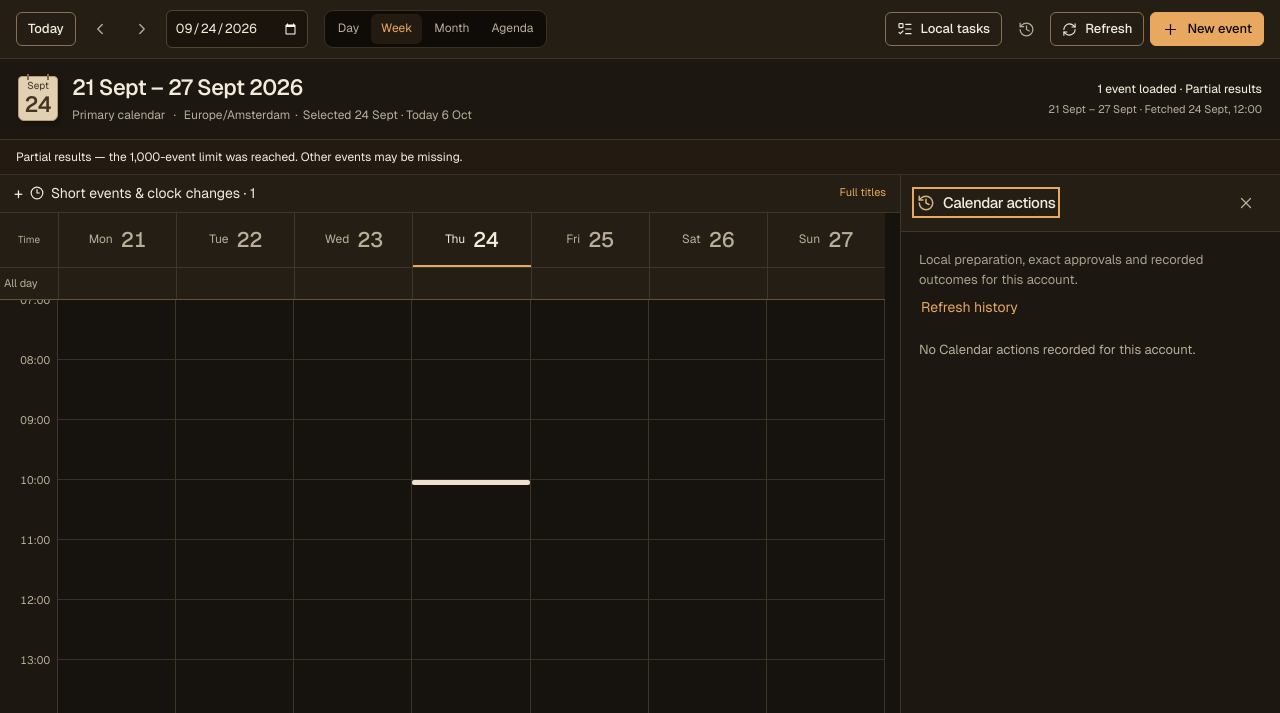
Test case: offers full compact-event titles, retains partial coverage and shows exact source details without another read
This screenshot has width=1280, height=713.
(page scrolled)
Expected: the text "1 event loaded · Partial results" is shown, [1098,81,1262,97]
Click the heading "Short events & clock changes · 1 Full titles": [150, 193] box [30,184,886,202]
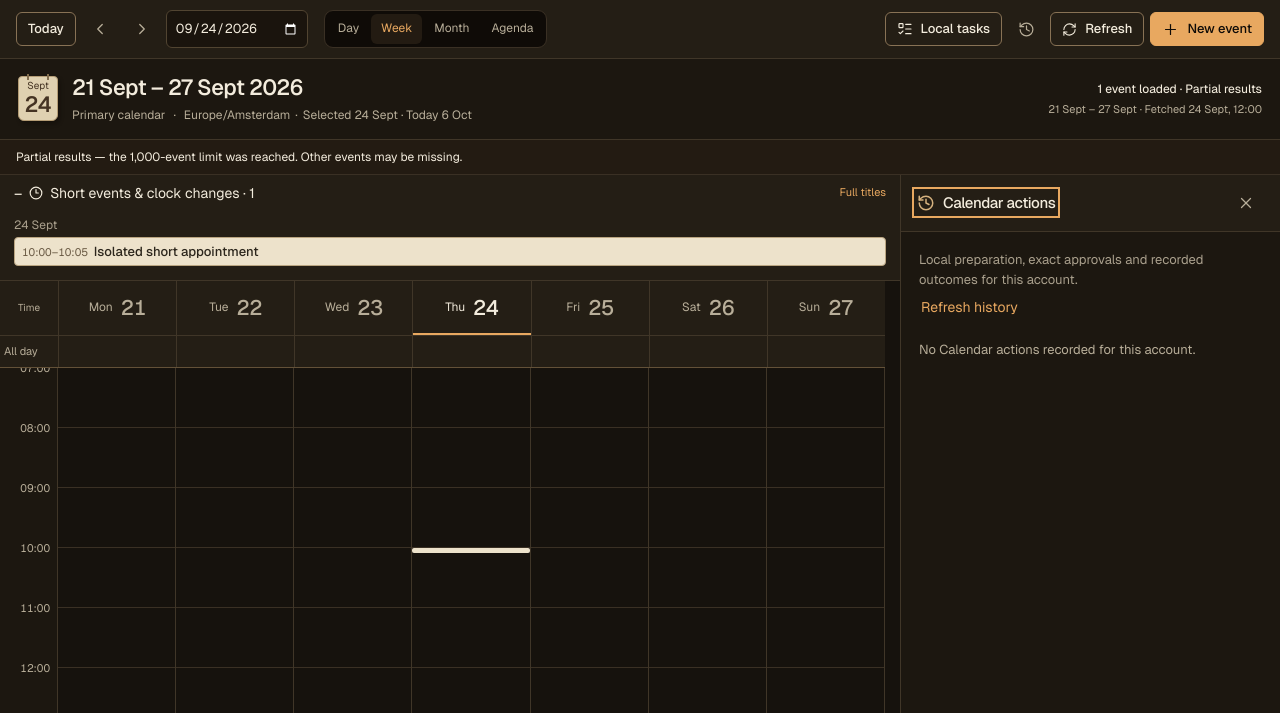
Click the button "10:00–10:05 Isolated short appointment": [55, 252] box [14,237,886,266]
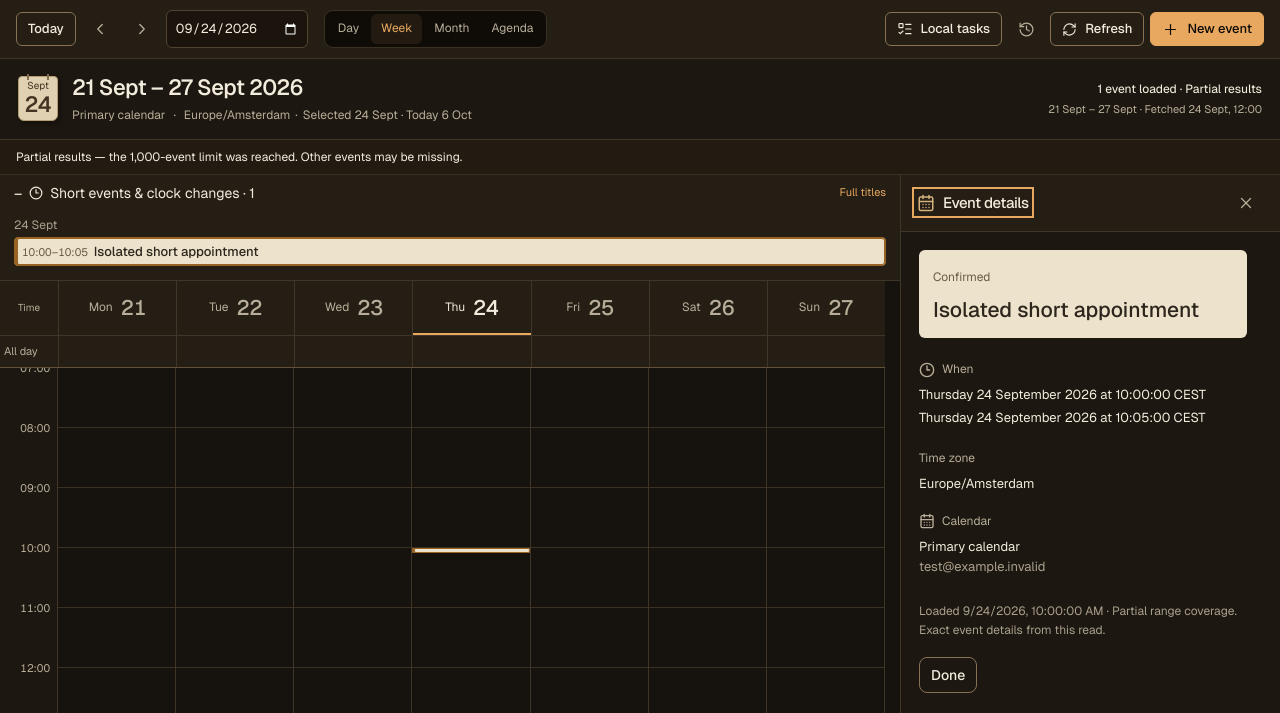
Expected: the heading "Isolated short appointment" is shown, [933,295,1233,324]
Expected: the text "test@example.invalid" is shown, [919,558,1046,575]
Expected: the text "Partial range coverage" is shown, [1104,603,1234,619]
Click the button "Done": [948, 675] box [919,657,977,693]
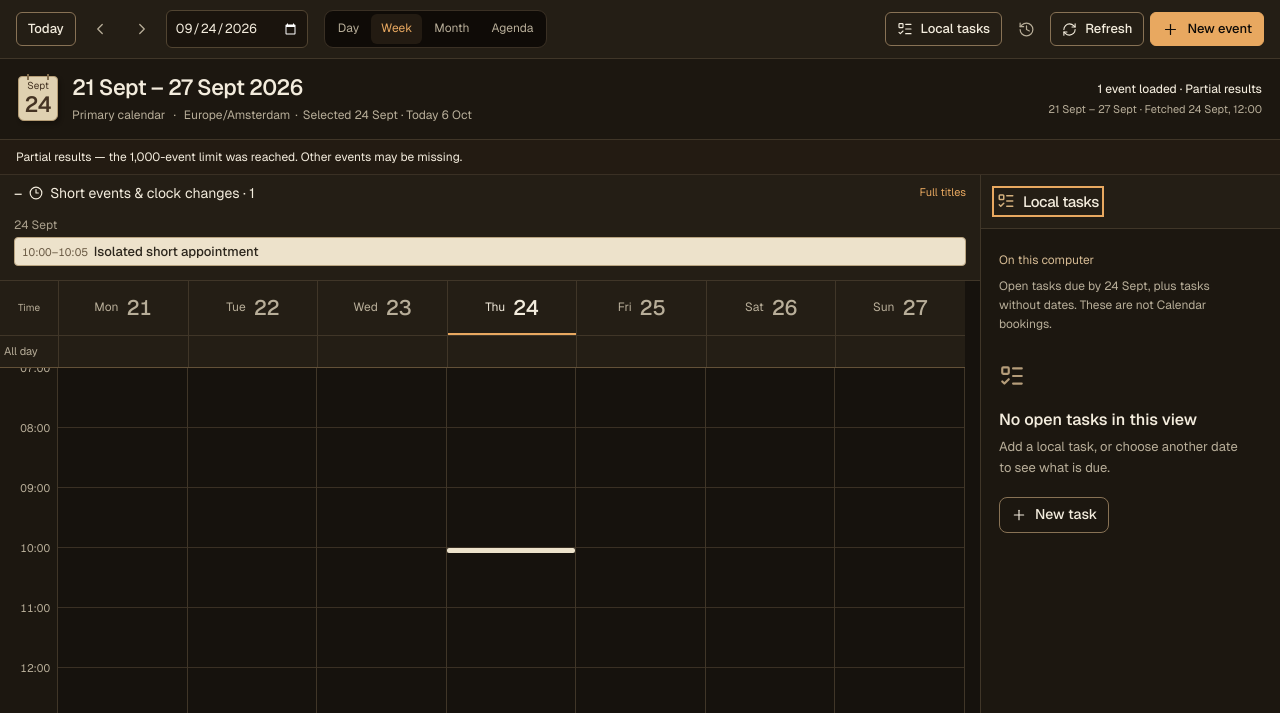
Expected: the heading "Event details" is gone
